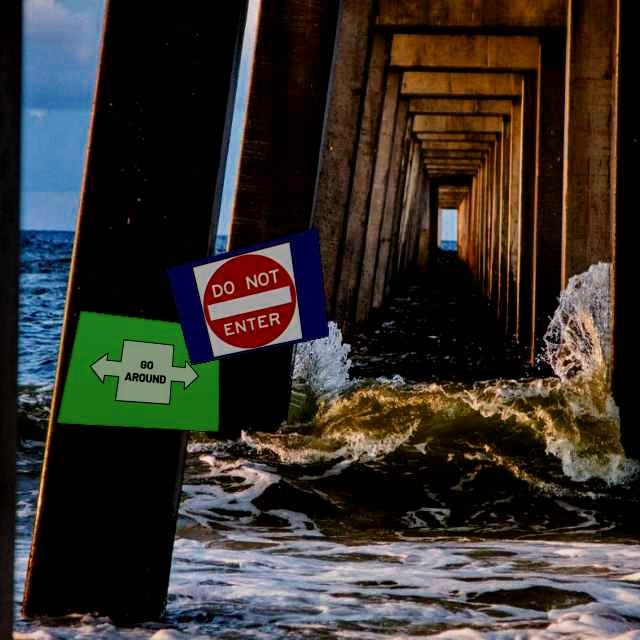DO_NOT_ENTER: (192, 241, 309, 361)
GO_AROUND: (83, 336, 208, 407)
